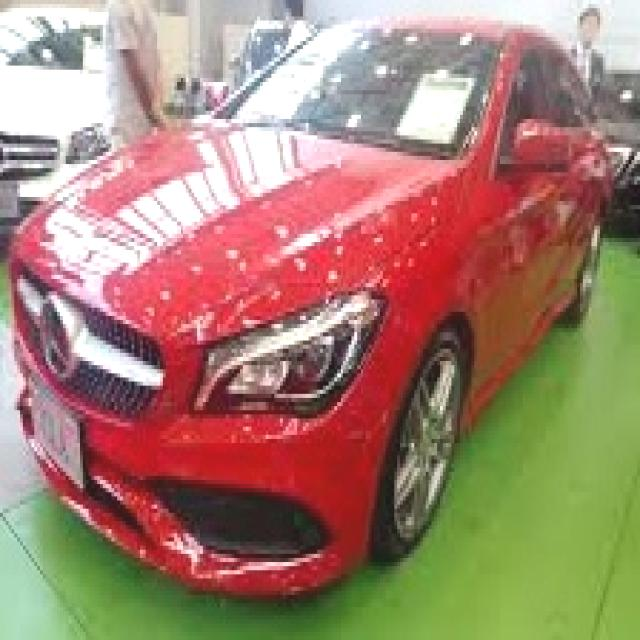red: (7, 10, 612, 599)
